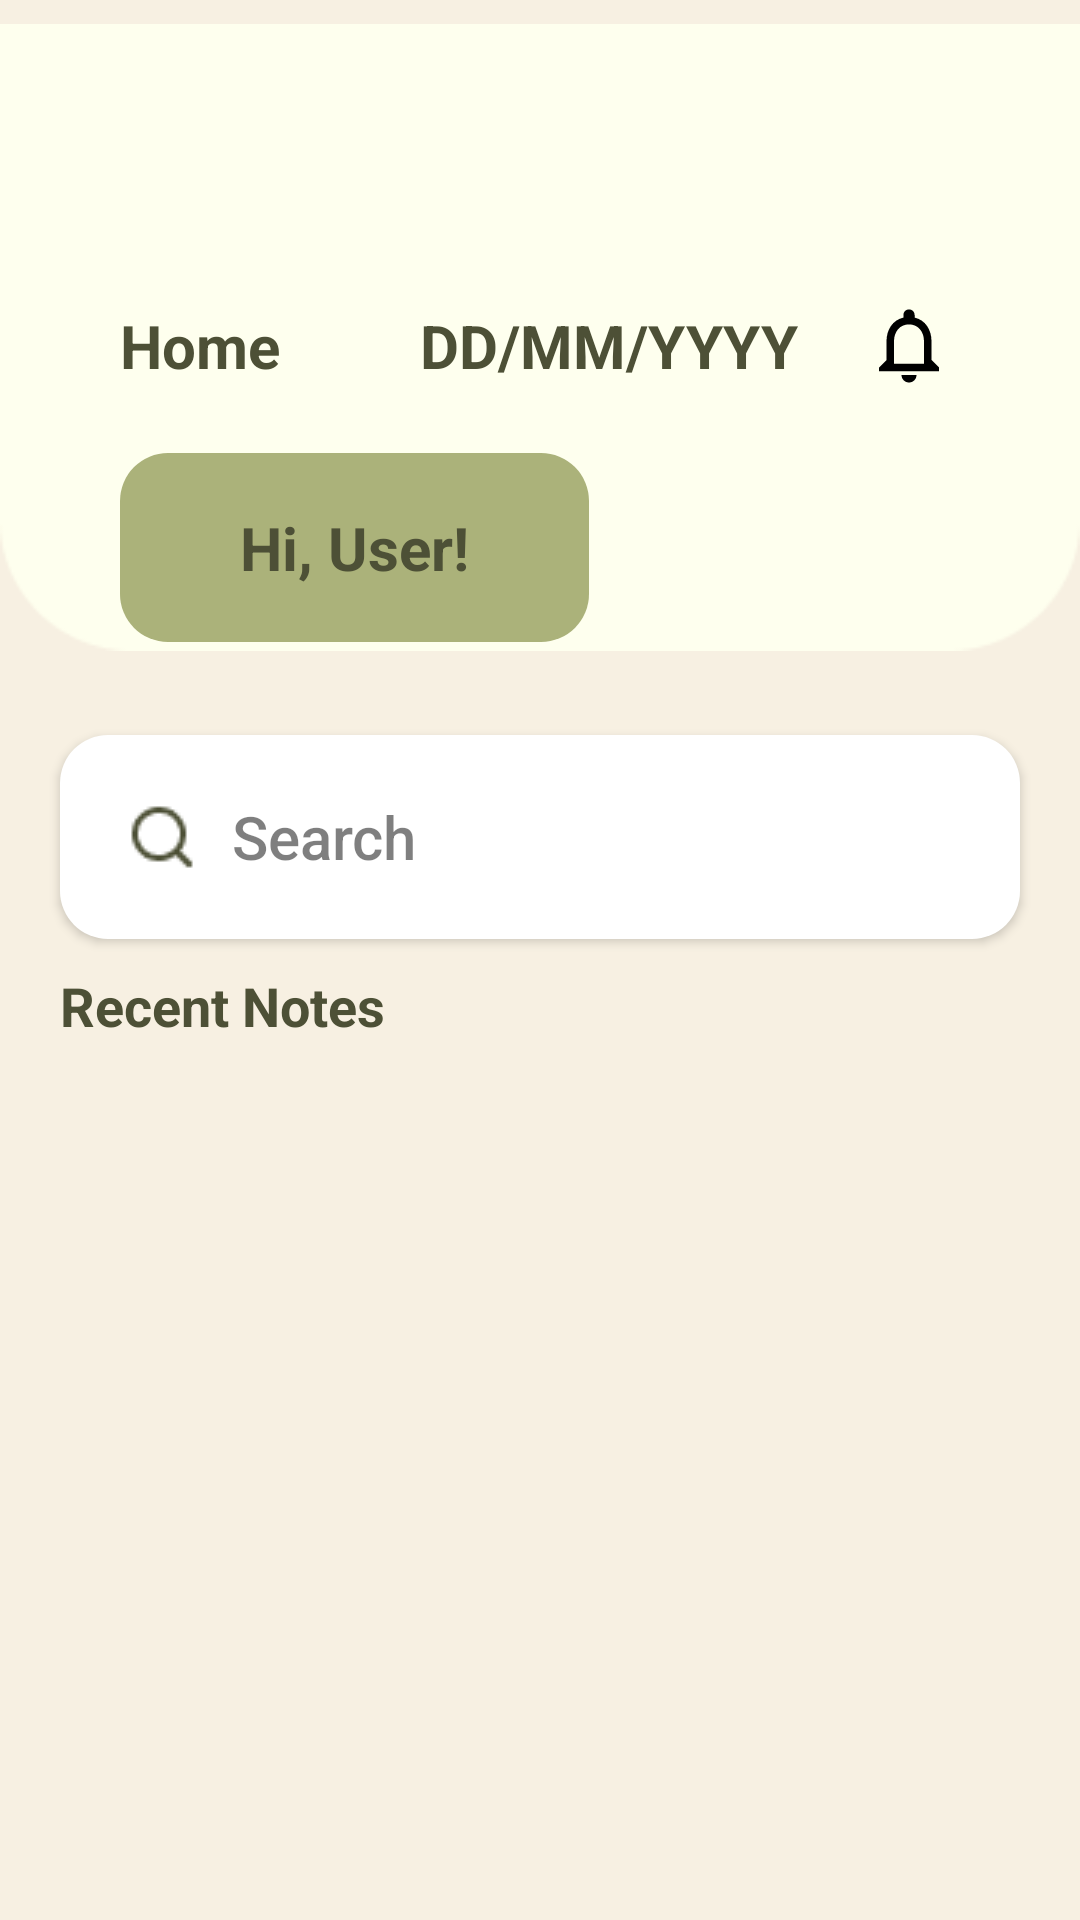

Where icons sit on this 1080 x 1920 app screen, as (x1, y1, x2, y2):
Notification Button: (879, 309, 939, 383)
